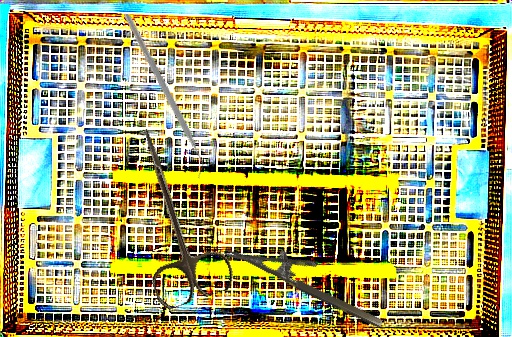Chopper: (71, 13, 254, 179)
Iris Scissors: (104, 117, 238, 313)
Needle Holder: (223, 224, 394, 330)
